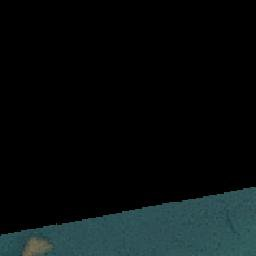debris: (21, 236, 57, 256)
